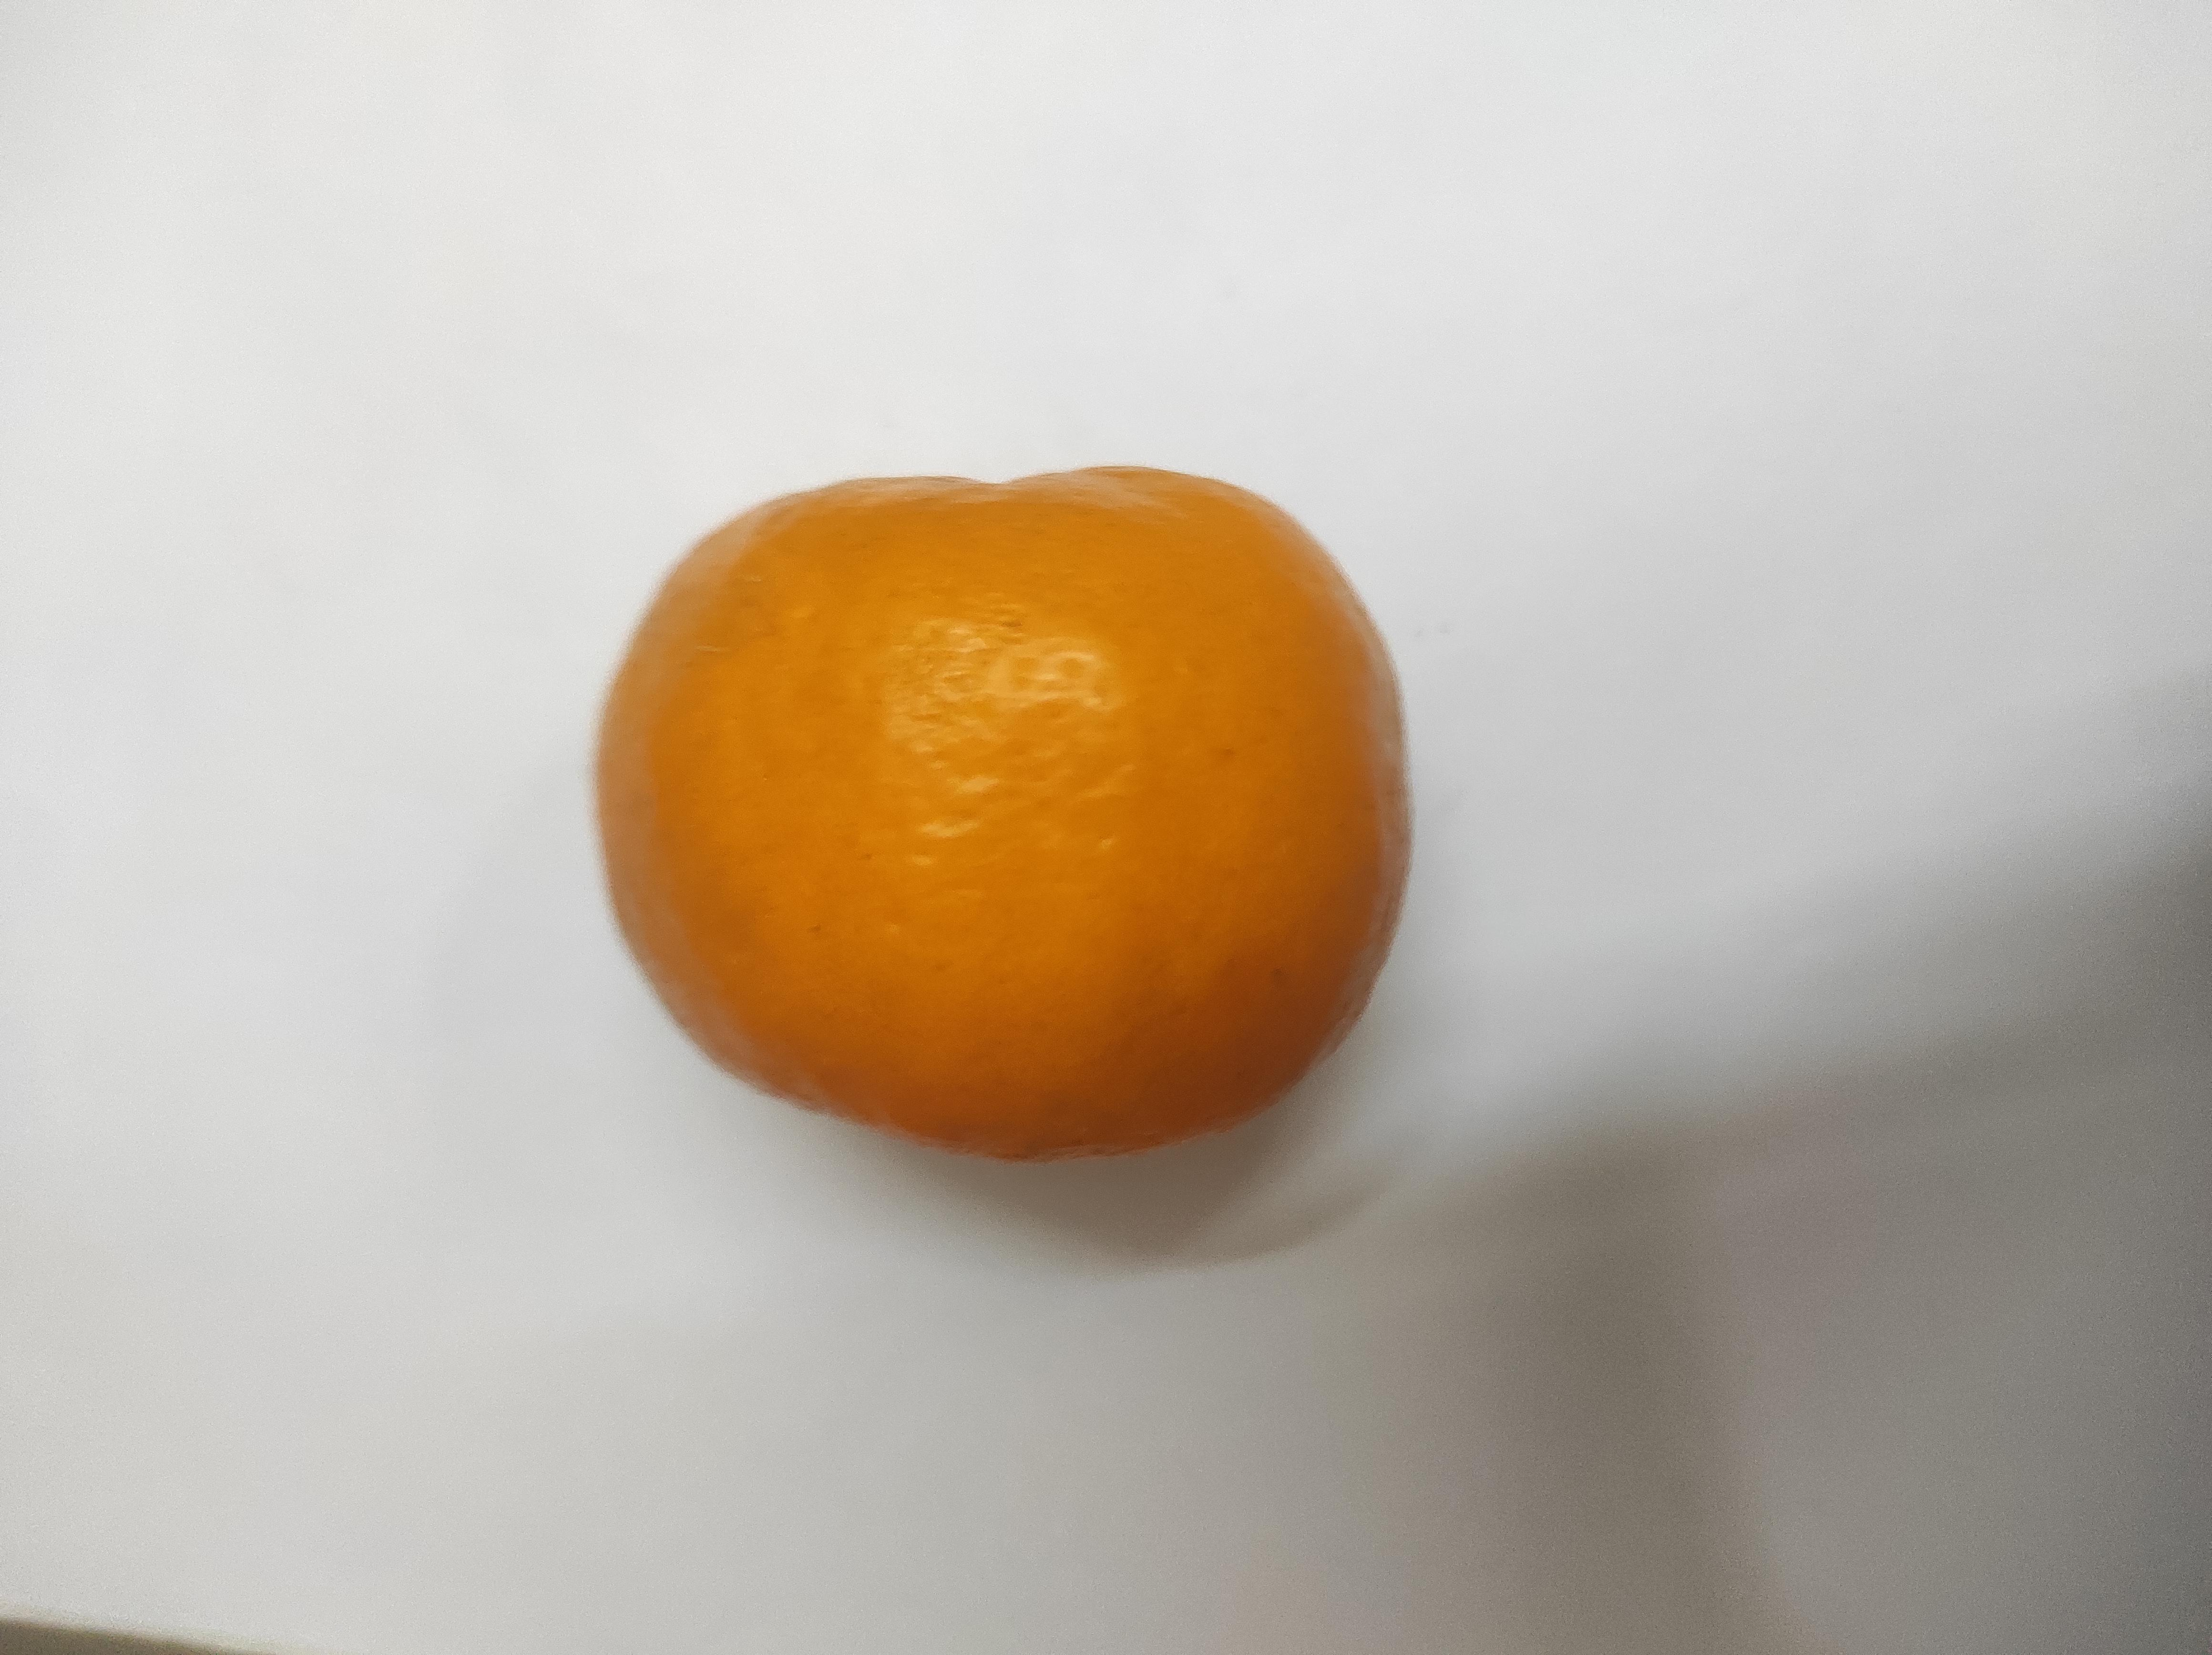Ripe: (591, 457, 1429, 1158)
